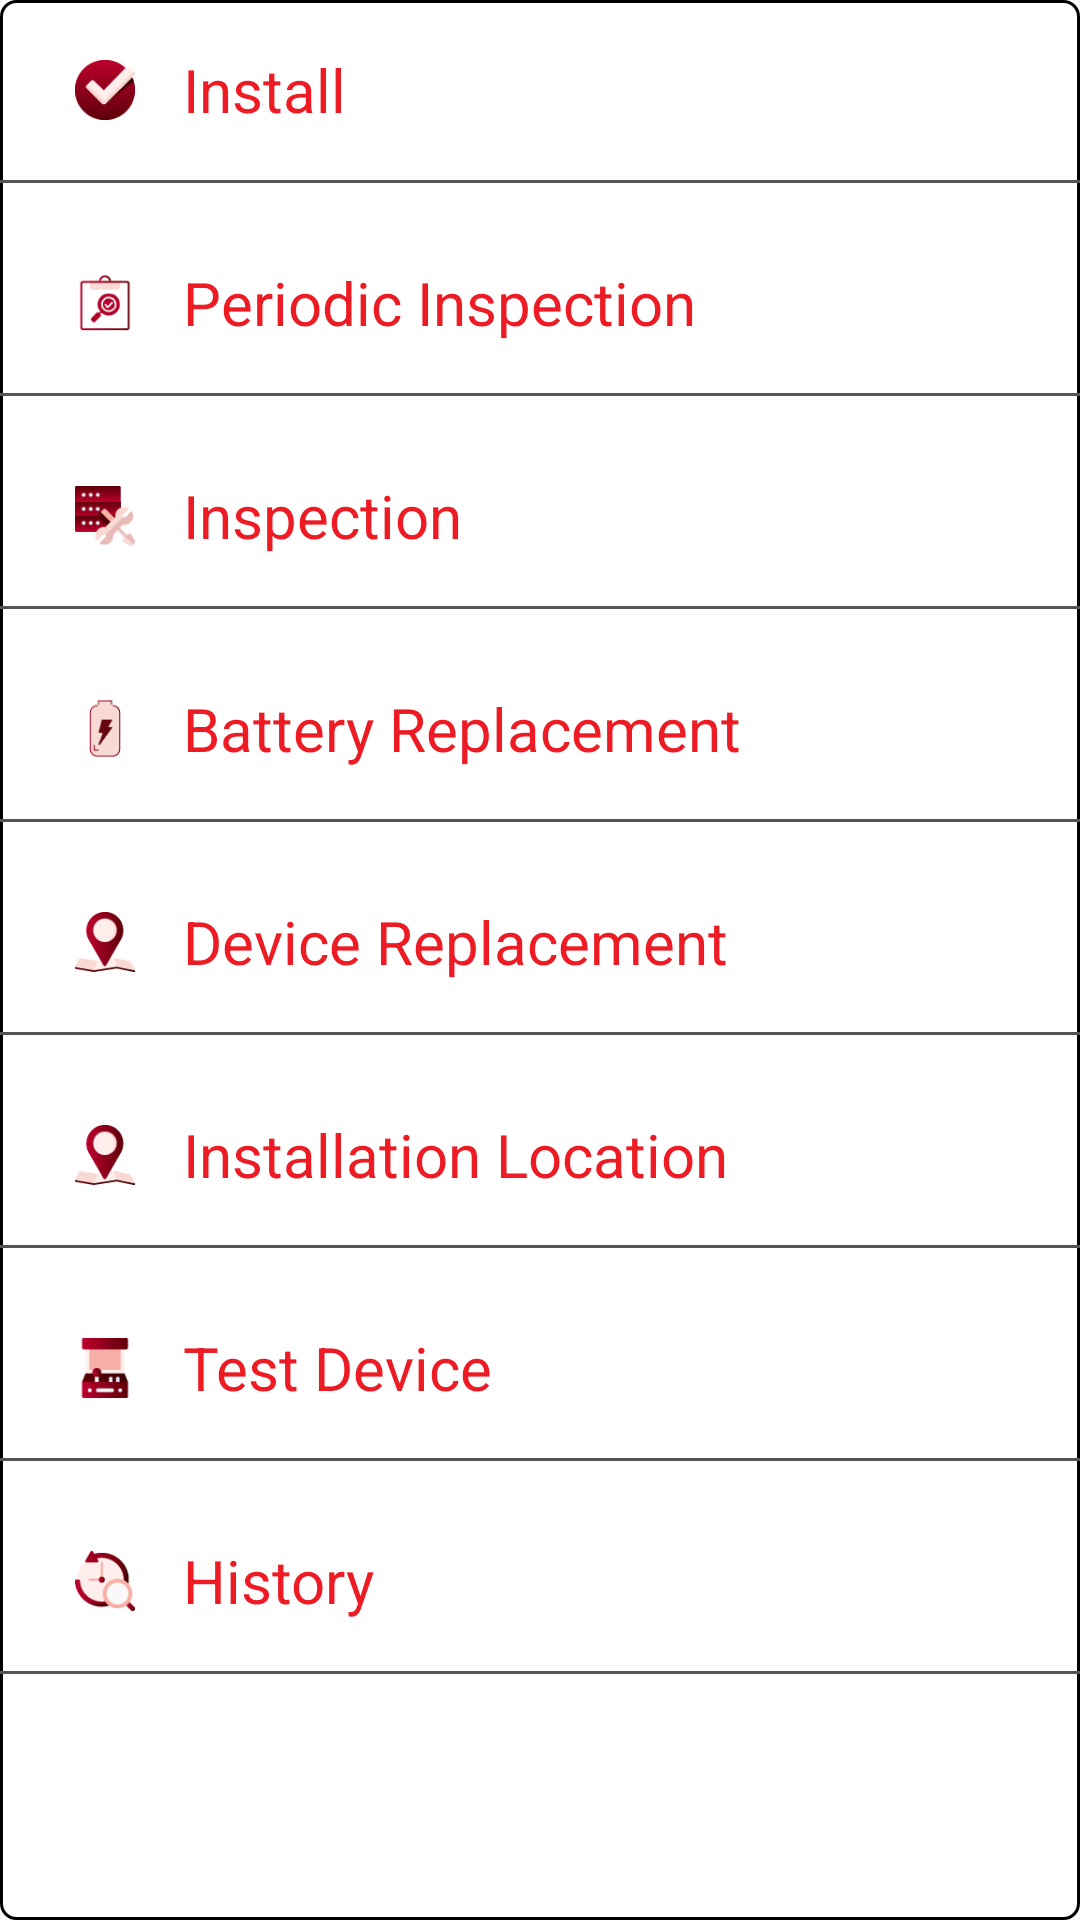

Icon click points for this 1080px×1920px phone screenshot, format [x,y]:
repair: [105,516]
